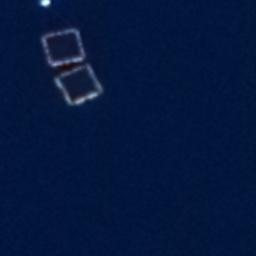square_solid: (51, 60, 109, 110), (39, 25, 89, 69)
